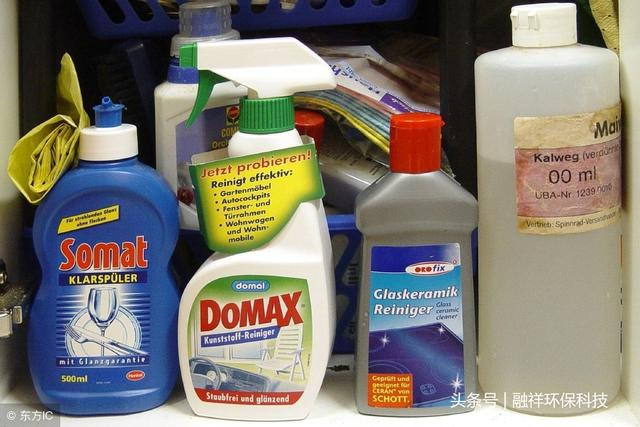cleaner: (463, 4, 623, 413), (178, 41, 337, 423), (25, 95, 182, 415), (351, 111, 482, 419), (157, 1, 280, 236), (292, 108, 468, 206)
